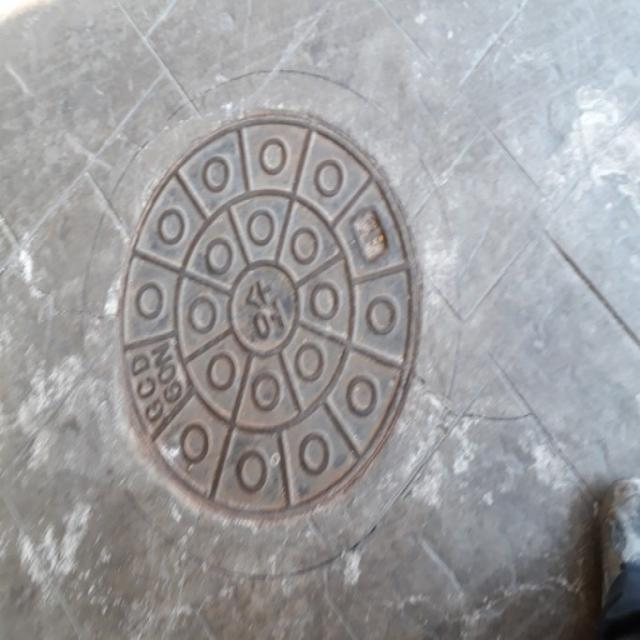manhole: (121, 115, 416, 515)
